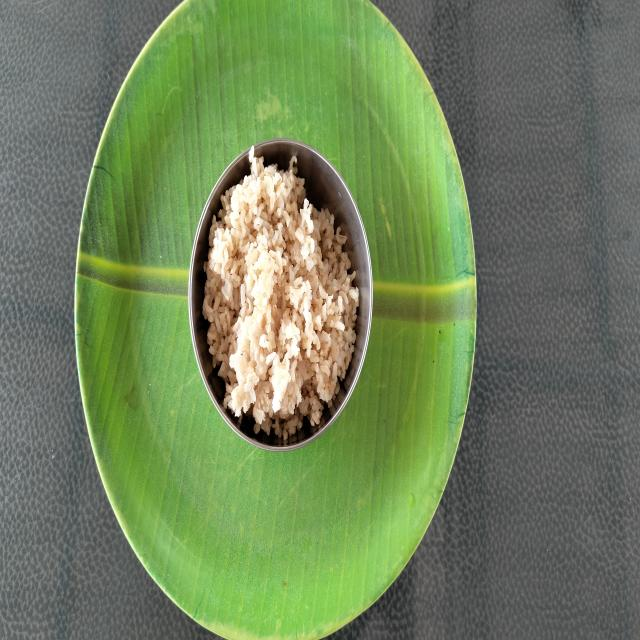brown-rice: (202, 148, 359, 439)
